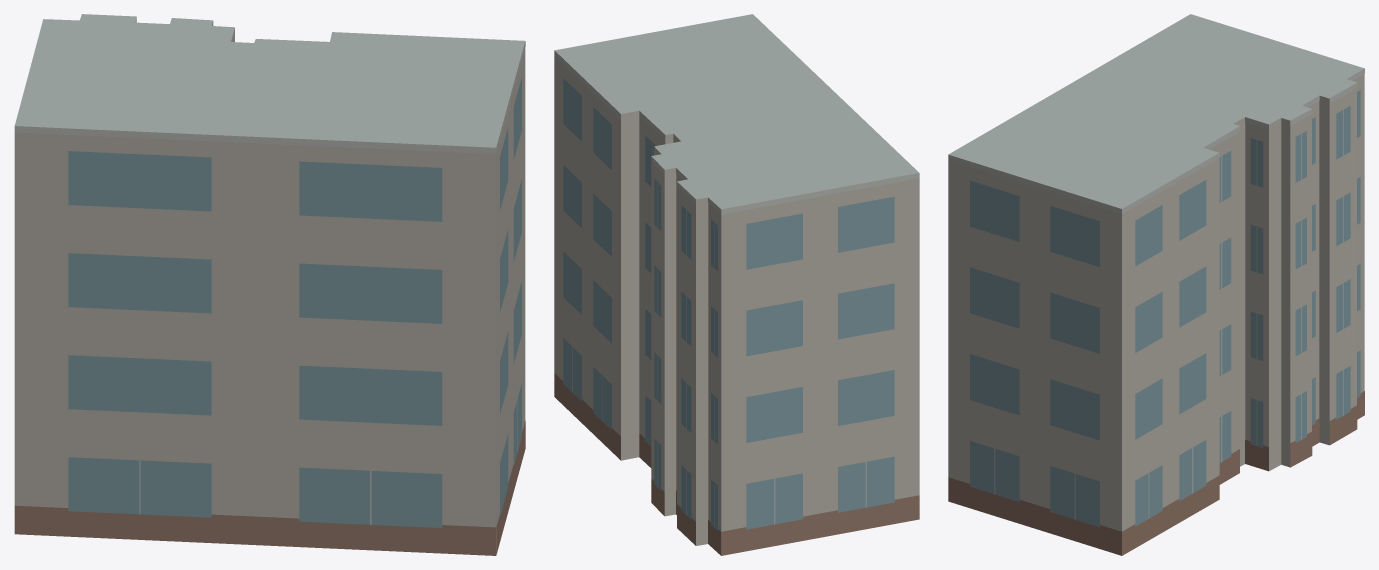
Rendered from survey-upis-32725918.glb.
3 views of the same model, side by side, from view 1: azimuth 30°, elevation 25°; view 2: azimuth 150°, elevation 25°; view 3: azimuth 270°, elevation 25° (orthographic). The views are drawn at different scales.
Visible parts, largest first — view 1: survey-upis-32725918.tmp; view 2: survey-upis-32725918.tmp; view 3: survey-upis-32725918.tmp.
Part boxes in pixels (left/top/right/bottom): survey-upis-32725918.tmp: left=14, top=14, right=525, bottom=555; survey-upis-32725918.tmp: left=554, top=14, right=919, bottom=555; survey-upis-32725918.tmp: left=948, top=14, right=1364, bottom=555.
Size of the model in its own units: 19.18 by 15.9 by 17.31.
